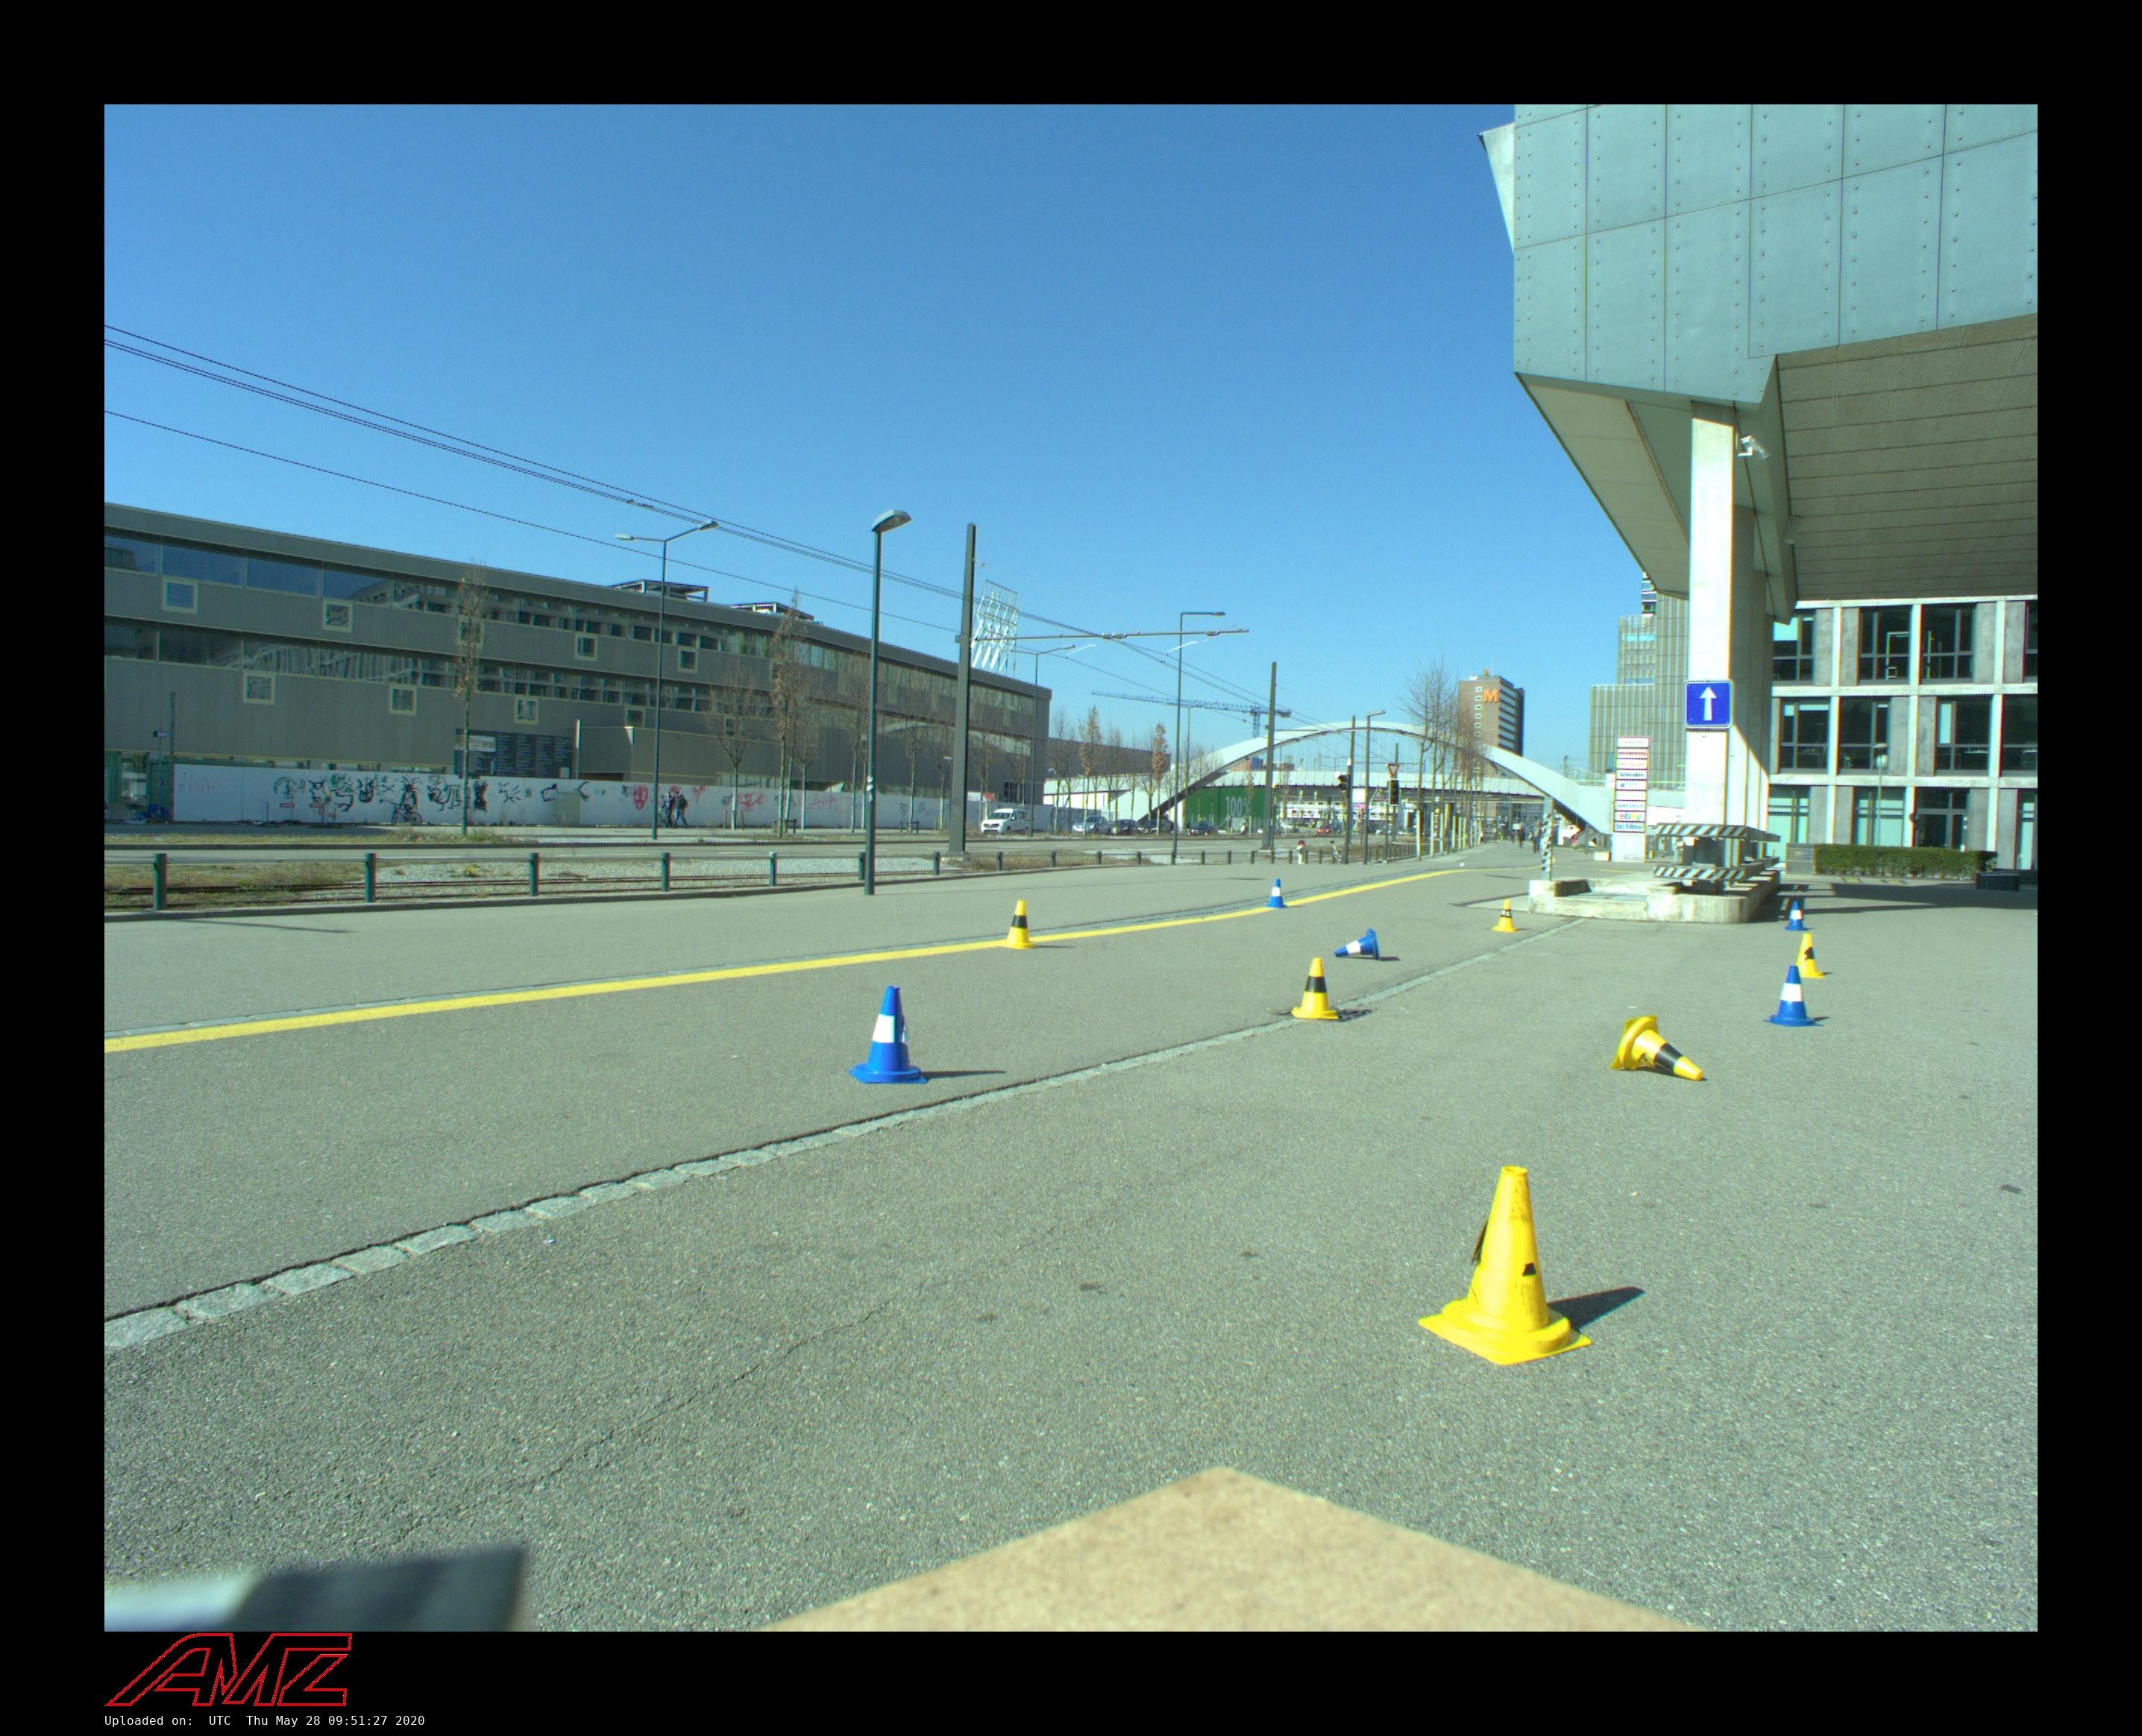blue_cone: (848, 986, 929, 1084), (1762, 966, 1824, 1028), (1334, 928, 1381, 961), (1784, 902, 1809, 931), (1266, 878, 1287, 908)
yellow_cone: (1418, 1167, 1592, 1365), (1609, 1016, 1703, 1081), (1290, 958, 1339, 1019), (1000, 900, 1037, 949), (1795, 934, 1826, 979), (1490, 899, 1518, 932)
